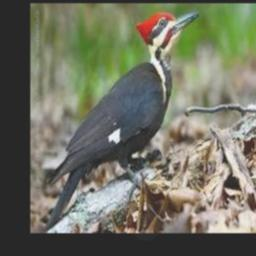Woodpecker: (40, 11, 198, 233)
